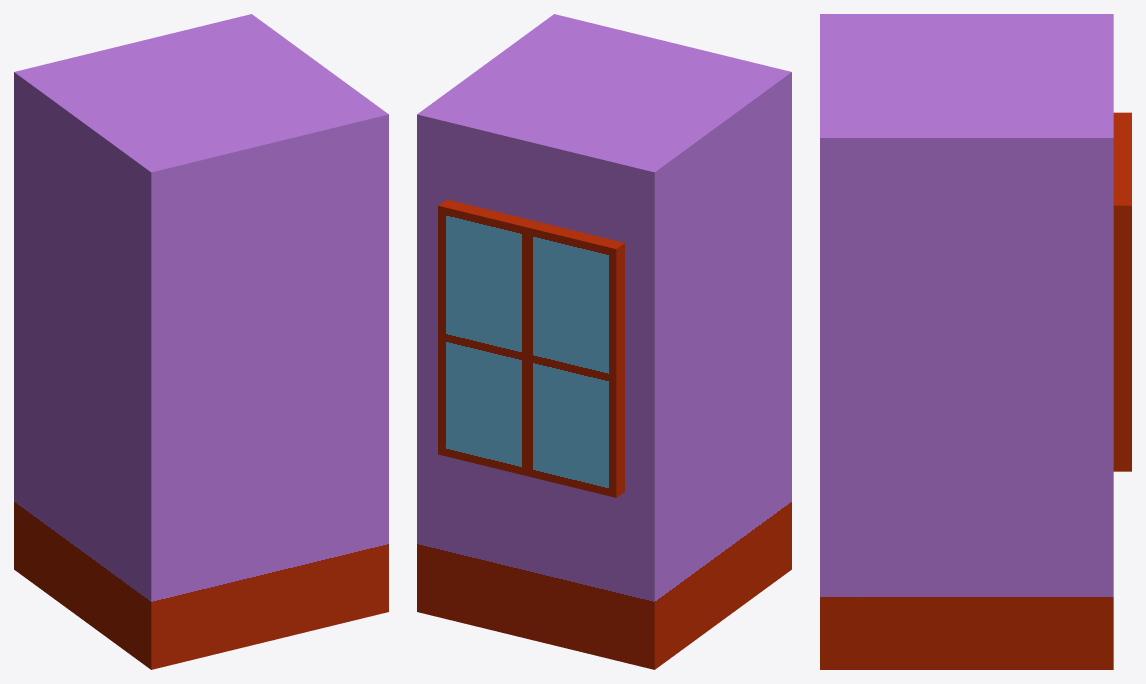
The model's file is CartoonWall2.glb.
The picture shows the model from 3 angles, left to right: view 1: azimuth 30°, elevation 25°; view 2: azimuth 150°, elevation 25°; view 3: azimuth 270°, elevation 25°; orthographic projection. The views are drawn at different scales.
Visible parts, largest first — view 1: cuboid; view 2: cuboid; view 3: cuboid.
Part boxes in pixels (left/top/right/bottom): cuboid: left=14, top=14, right=388, bottom=669; cuboid: left=417, top=14, right=791, bottom=669; cuboid: left=820, top=14, right=1131, bottom=669.
Size of the model in its own units: 2 by 4 by 2.12.
Materials: 1 (1 with a texture image).
